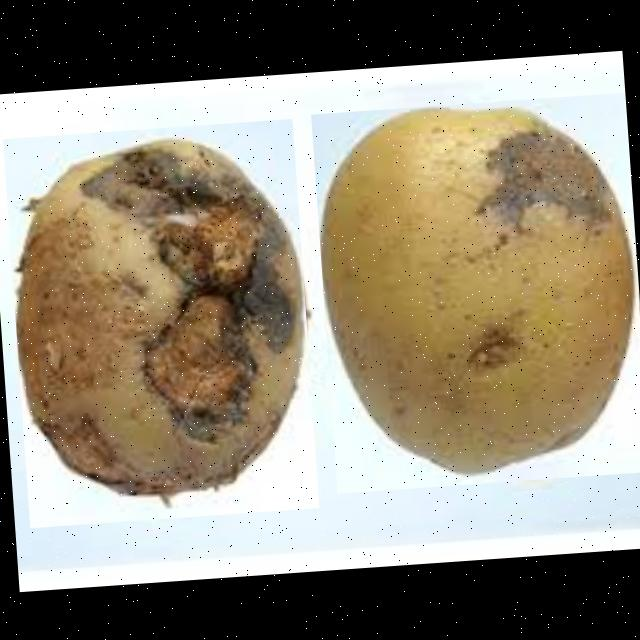Diseased-fungal potato: (309, 91, 640, 492), (2, 118, 318, 526)
